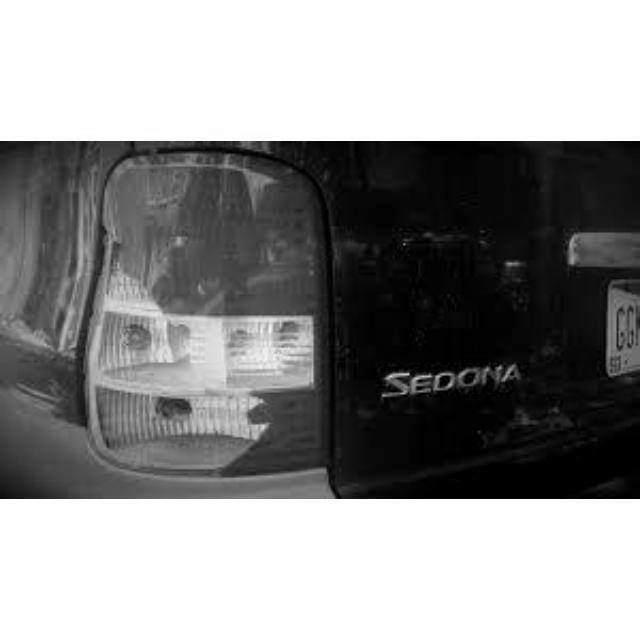Taillight-Damage: (64, 142, 330, 479)
